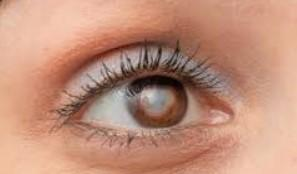eye: (125, 75, 191, 130)
